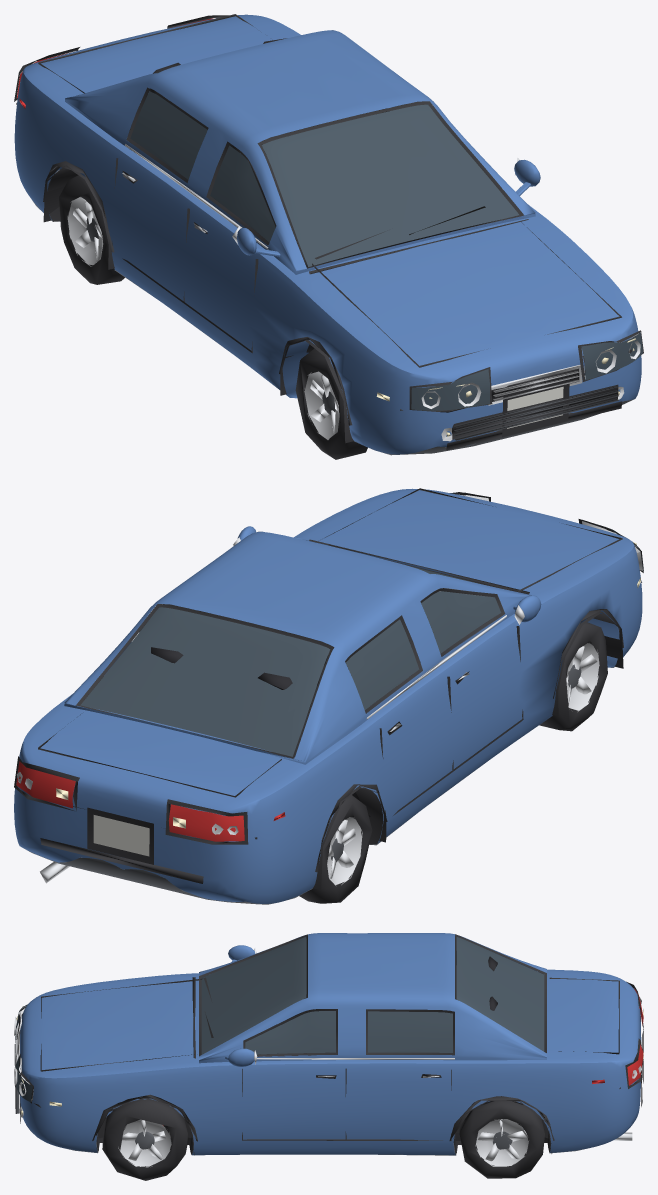
File: CarV3_Sedan_L1.fbx
3 views of the same model, one above another, from view 1: azimuth 30°, elevation 25°; view 2: azimuth 150°, elevation 25°; view 3: azimuth 270°, elevation 25° (orthographic). The views are drawn at different scales.
Visible parts, largest first — view 1: CarV3_Sedan.001; view 2: CarV3_Sedan.001; view 3: CarV3_Sedan.001.
Part boxes in pixels (x1,y1,x2,y2): CarV3_Sedan.001: [14, 14, 643, 459]; CarV3_Sedan.001: [14, 488, 643, 904]; CarV3_Sedan.001: [14, 933, 643, 1180].
Size of the model in its own units: 1.95 by 1.46 by 4.8.
